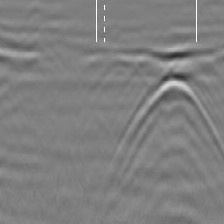Utility: (119, 69, 224, 176)
